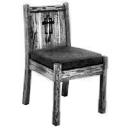chair_success: (16, 2, 110, 127)
